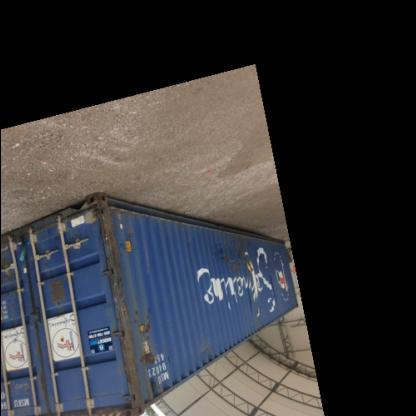Damage: (100, 210, 130, 298), (218, 232, 259, 284), (42, 275, 68, 313), (130, 300, 156, 337), (138, 344, 162, 368), (192, 339, 214, 357)
